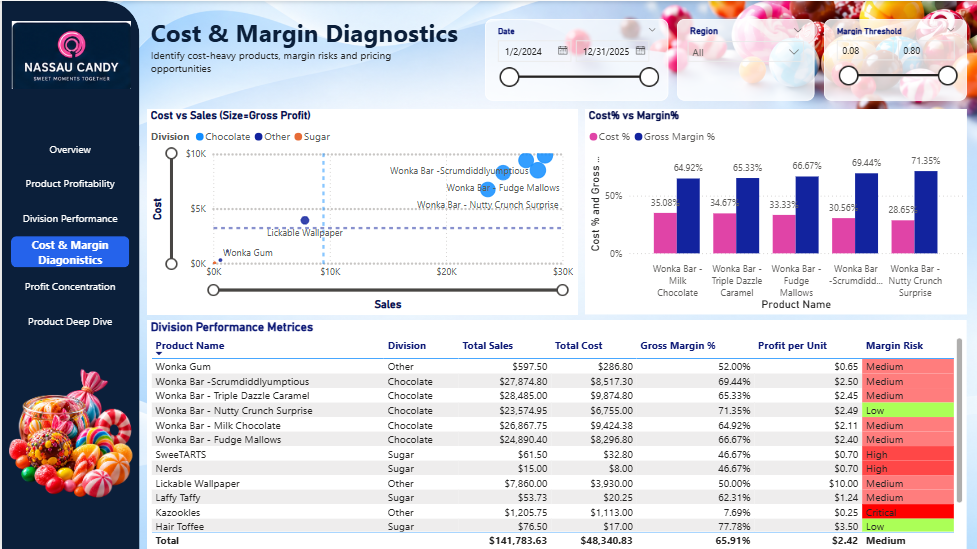

The page's visual inventory and layout, read from the dashboard file:
{"tool":"powerbi","page":{"name":"Cost & Margin Diagonistics","canvas":[1280,720],"ordinal":3},"visuals":[{"type":"shape","box":[0,0,180,720],"z":0},{"type":"image","box":[7.2,25.9,165.6,89.3],"z":1000},{"type":"pageNavigator","box":[11.7,172.5,155.8,271.7],"z":2000},{"type":"image","box":[0,480,180,172],"z":3000},{"type":"textbox","box":[190.1,13,437.8,61.9],"z":4000},{"type":"textbox","box":[190.1,56.2,390.2,59],"z":5000},{"type":"slicer","fields":{"Values":["DimDate.Date"]},"box":[632.2,23,240.5,106.6],"z":6000},{"type":"slicer","fields":{"Values":["DimCustomer.Region"]},"box":[884.2,23,180,106.6],"z":7000},{"type":"slicer","fields":{"Values":["FactSales.Gross Margin %"]},"box":[1075.7,23,187.2,106.6],"z":9000},{"type":"scatterChart","title":"Cost vs Sales (Size=Gross Profit)","fields":{"X":["_Measures.Total Sales"],"Y":["_Measures.Total Cost"],"Size":["_Measures.Gross Profit"],"Series":["DimProduct.Division"],"Category":["DimProduct.Product Name"]},"box":[190.1,141.1,563,269.3],"z":12000},{"type":"clusteredColumnChart","title":"Cost% vs Margin%","fields":{"Category":["DimProduct.Product Name"],"Y":["_Measures.Cost %","_Measures.Gross Margin %"]},"box":[763.2,141.1,499.7,269.3],"z":13000},{"type":"tableEx","title":"Division Performance Metrices","fields":{"Values":["DimProduct.Product Name","DimProduct.Division","_Measures.Total Sales","_Measures.Total Cost","_Measures.Gross Margin %","_Measures.Profit per Unit","_Measures.Margin Risk"]},"box":[190.1,417.6,1072.8,302.4],"z":17000}]}

Visuals, with their boxes in screenshot pixels (x1, y1, x2, y2), scaled from the page's 1280x720 canvas onto the 977x549 screenshot:
shape: [0, 0, 137, 548]
image: [5, 20, 132, 88]
pageNavigator: [9, 132, 128, 339]
image: [0, 366, 137, 497]
textbox: [145, 10, 479, 57]
textbox: [145, 43, 443, 88]
slicer - DimDate.Date: [483, 18, 666, 99]
slicer - DimCustomer.Region: [675, 18, 812, 99]
slicer - FactSales.Gross Margin %: [821, 18, 964, 99]
"Cost vs Sales (Size=Gross Profit)" scatterChart: [145, 108, 575, 313]
"Cost% vs Margin%" clusteredColumnChart: [583, 108, 964, 313]
"Division Performance Metrices" tableEx: [145, 318, 964, 548]
